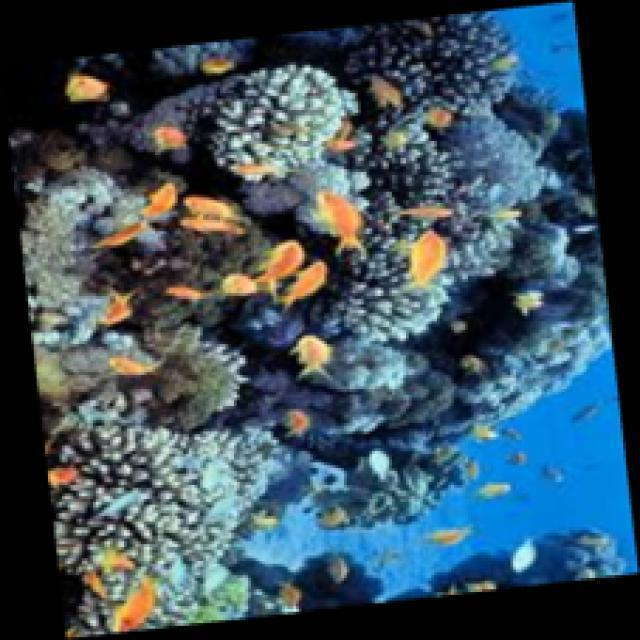Dead Coral: (345, 10, 519, 285)
